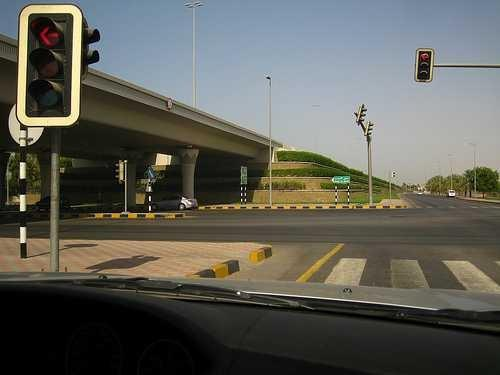red: (23, 13, 74, 122), (31, 17, 66, 51), (412, 46, 437, 84)
